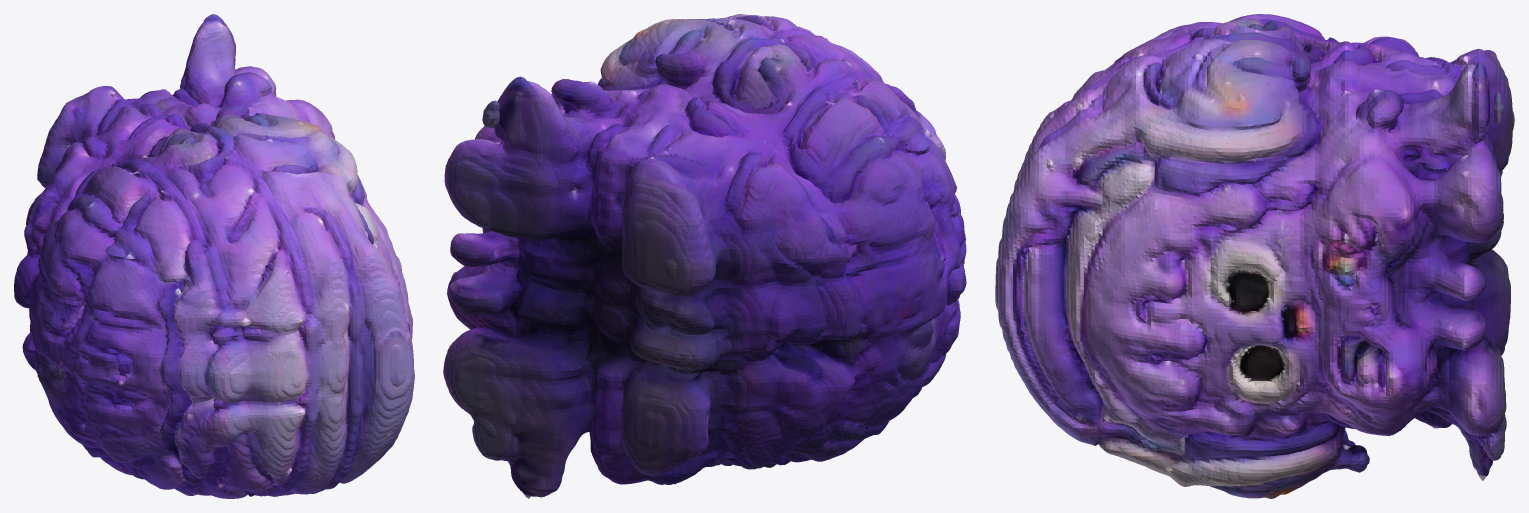
Rendered from game.glb.
3 renders of one model, left to right at view 1: azimuth 30°, elevation 25°; view 2: azimuth 150°, elevation 25°; view 3: azimuth 270°, elevation 25°, orthographic. The views are drawn at different scales.
Visible parts, largest first — view 1: geometry_0; view 2: geometry_0; view 3: geometry_0.
Part boxes in pixels (bbox=[...]): geometry_0: bbox=[14, 14, 414, 498]; geometry_0: bbox=[443, 14, 966, 498]; geometry_0: bbox=[995, 14, 1514, 498].
Bounding box in the file's own units: 0.9032 × 0.9147 × 0.9506.
Materials: 1 (1 with a texture image).
